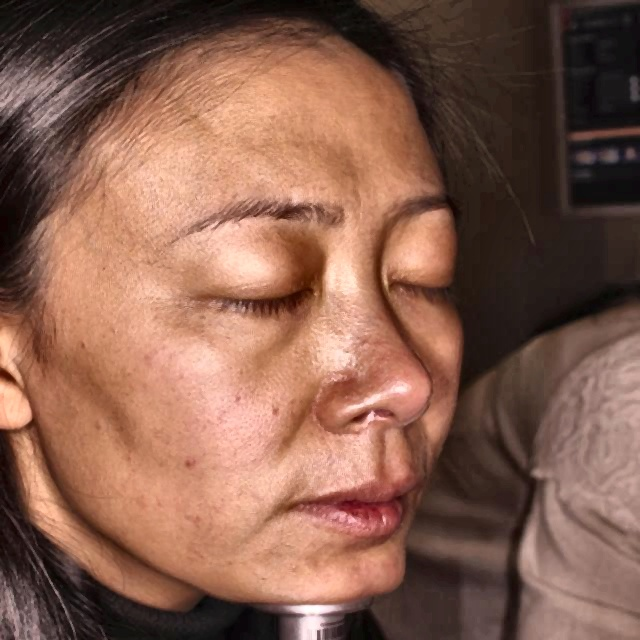comedone: (184, 449, 200, 476)
